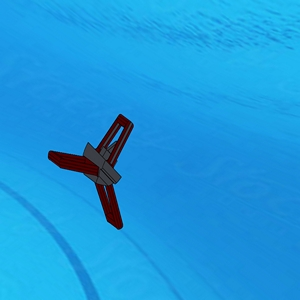submarine: (50, 110, 133, 218)
